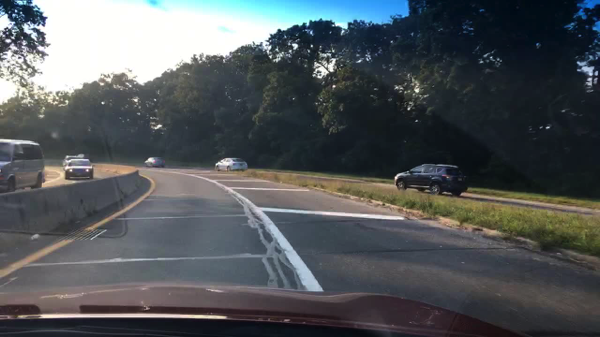car: (393, 164, 468, 197), (0, 140, 45, 193), (65, 159, 94, 180), (214, 157, 247, 172), (143, 156, 164, 168), (62, 155, 83, 167)
